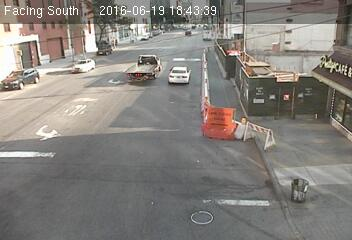neg: (199, 24, 214, 44), (109, 36, 119, 49)
